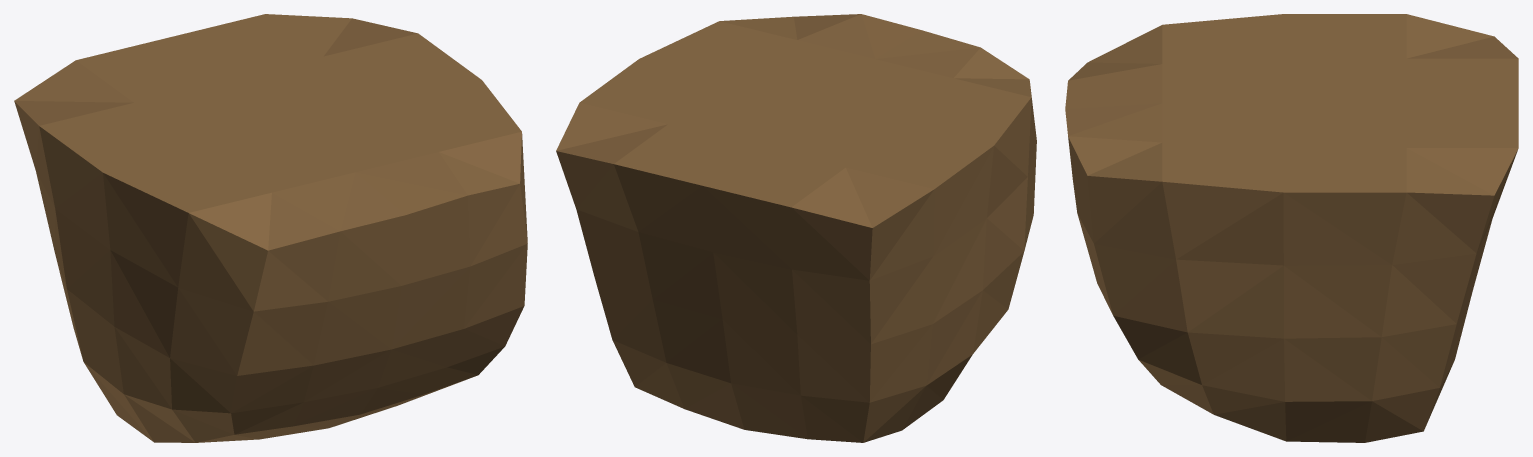
Rendered from RightFingerJoint33y_joint_visu.dae.
3 views of the same model, side by side, from view 1: azimuth 30°, elevation 25°; view 2: azimuth 150°, elevation 25°; view 3: azimuth 270°, elevation 25° (orthographic). The views are drawn at different scales.
Visible parts, largest first — view 1: node; view 2: node; view 3: node.
Part boxes in pixels (x1,y1,x2,y2): node: (14,14,527,442); node: (556,14,1036,442); node: (1065,14,1518,442).
Size of the model in its own units: 0.0109 by 0.00847 by 0.0117.
